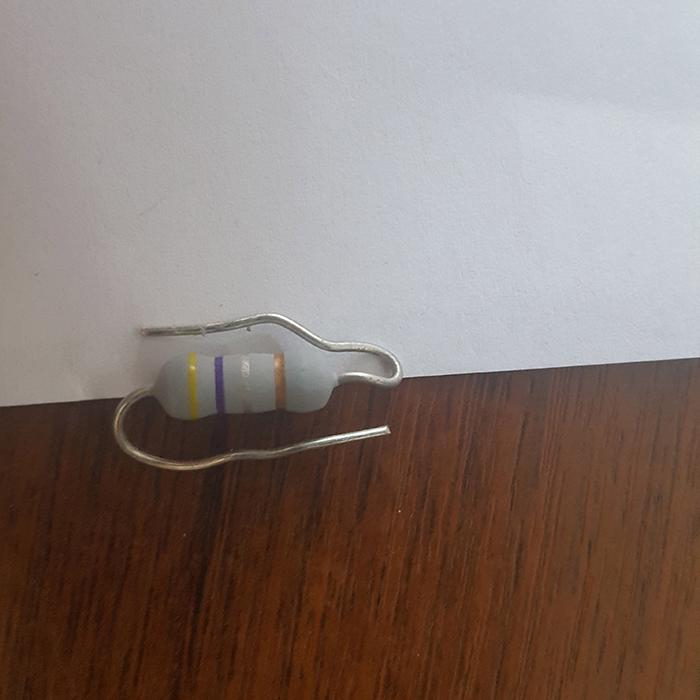resistor: (155, 348, 313, 419)
